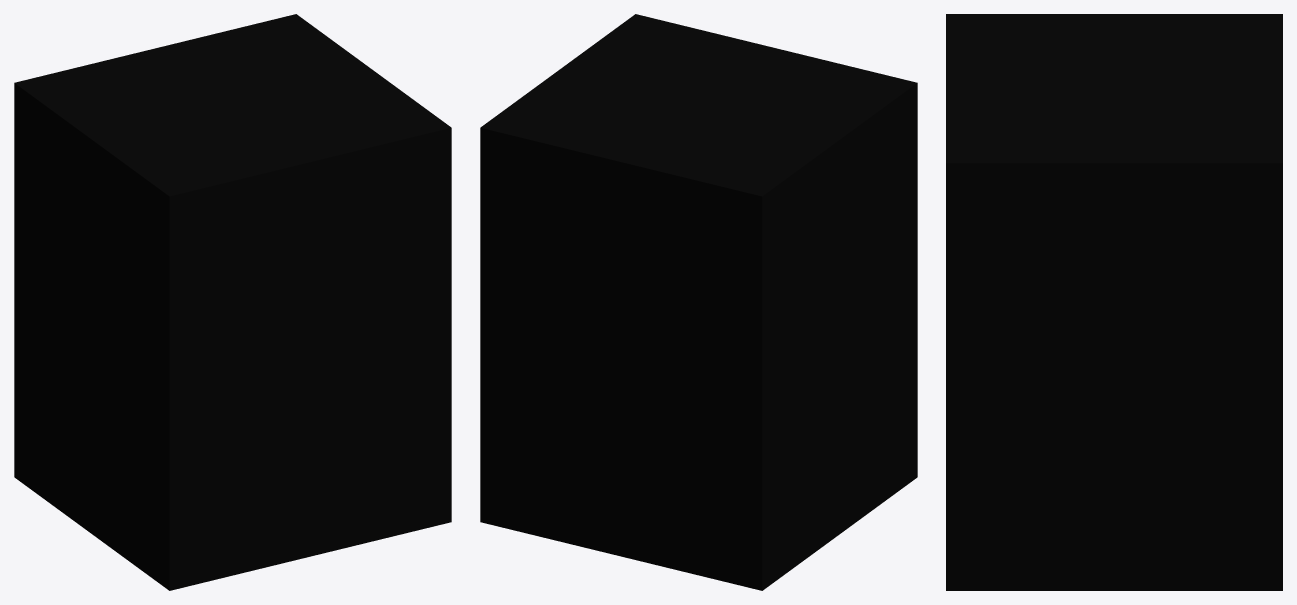
Rendered from Menu_brush.glb.
3 views of the same model, side by side, from view 1: azimuth 30°, elevation 25°; view 2: azimuth 150°, elevation 25°; view 3: azimuth 270°, elevation 25° (orthographic). The views are drawn at different scales.
Visible parts, largest first — view 1: Menu; view 2: Menu; view 3: Menu.
Part boxes in pixels (bbox=[...]): Menu: bbox=[14, 14, 451, 590]; Menu: bbox=[480, 14, 917, 590]; Menu: bbox=[946, 14, 1282, 590].
Size of the model in its own units: 3512 by 4692 by 3350.
Materials: 1 (1 with a texture image).
